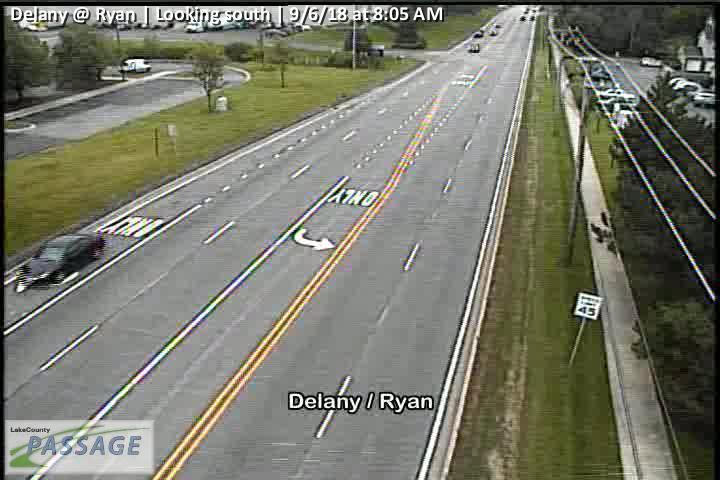Sedan: (16, 231, 106, 284)
